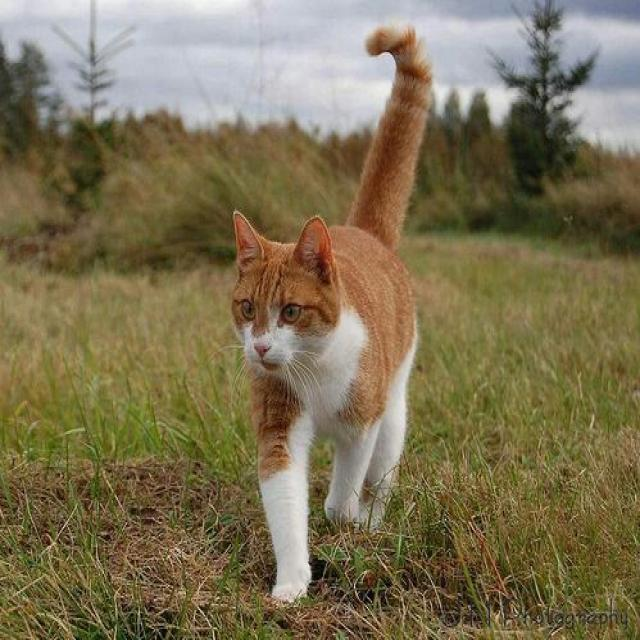sarman: (232, 28, 430, 599)
